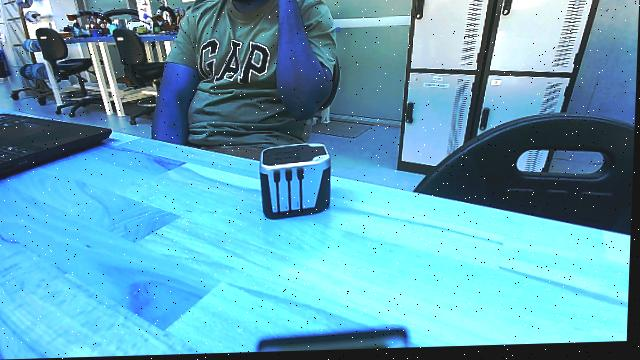adapter: (255, 140, 340, 226)
